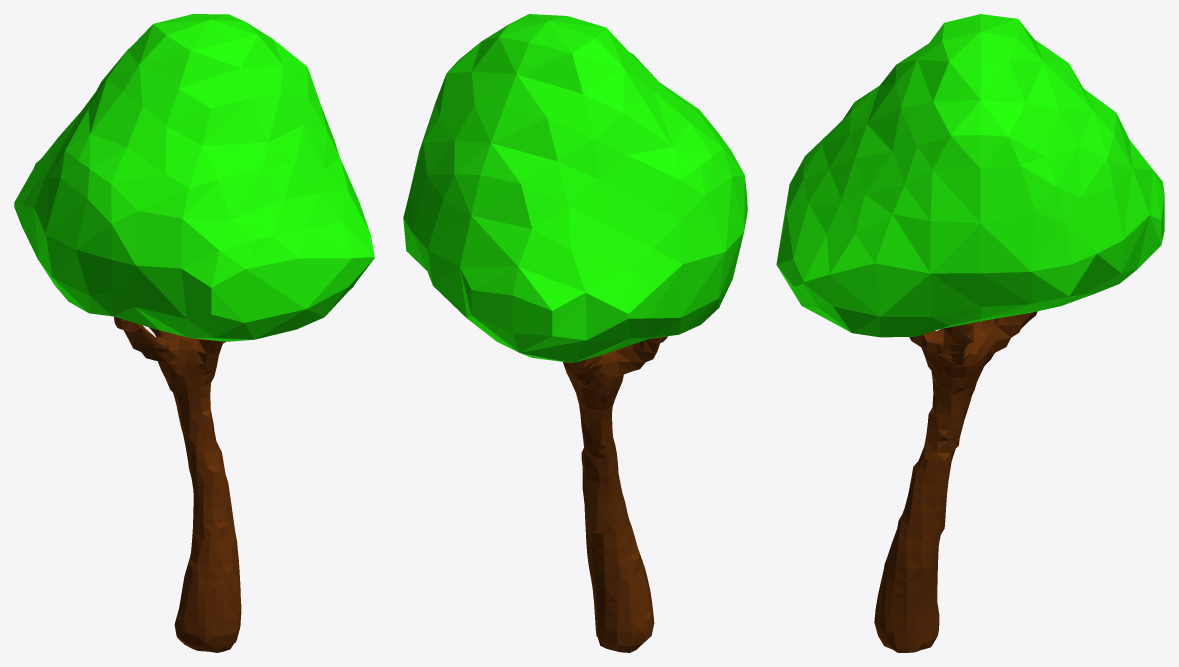
Rendered from Drzewgo.fbx.
The picture shows the model from 3 angles, left to right: view 1: azimuth 30°, elevation 25°; view 2: azimuth 150°, elevation 25°; view 3: azimuth 270°, elevation 25°; orthographic projection. The views are drawn at different scales.
Parts seen in each view (by area): view 1: Icosphere; view 2: Icosphere; view 3: Icosphere.
Boxes of the visible parts, box(x1,y1,x2,y2) form: Icosphere: box(14, 14, 374, 652); Icosphere: box(403, 14, 747, 652); Icosphere: box(776, 14, 1164, 652).
Size of the model in its own units: 282 by 582 by 324.
